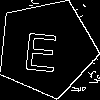E: (22, 23, 61, 73)
